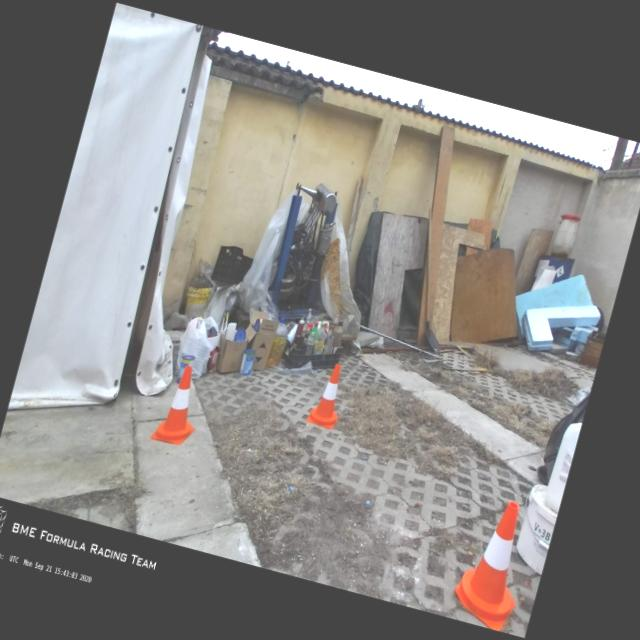orange_cone: (446, 492, 540, 632), (150, 361, 210, 448), (305, 360, 351, 430)
